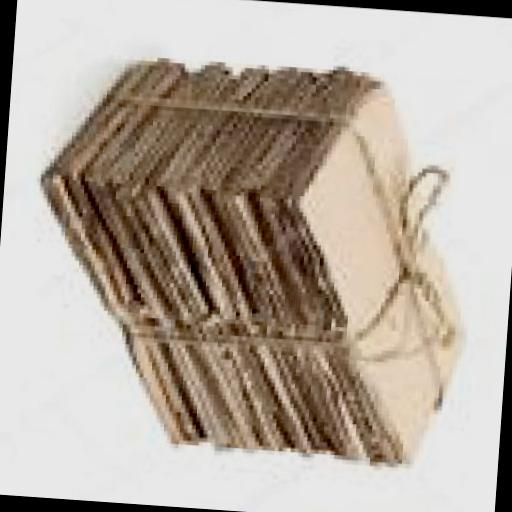cardboard: (30, 54, 492, 475)
